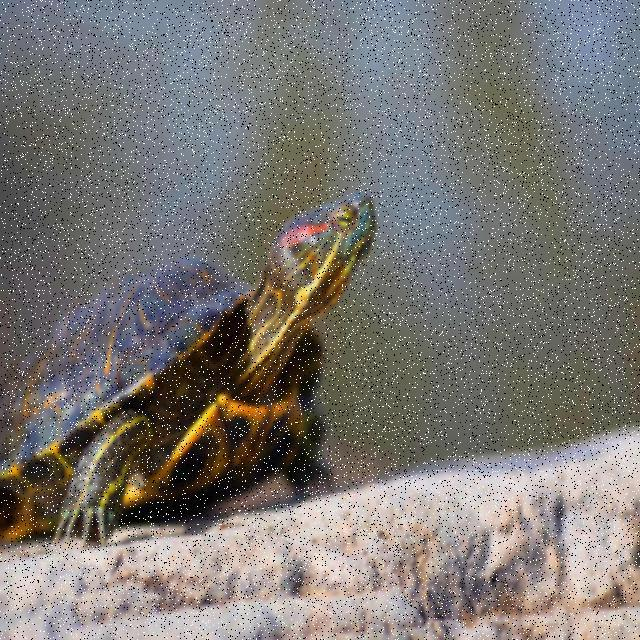tortoise: (0, 180, 384, 556)
